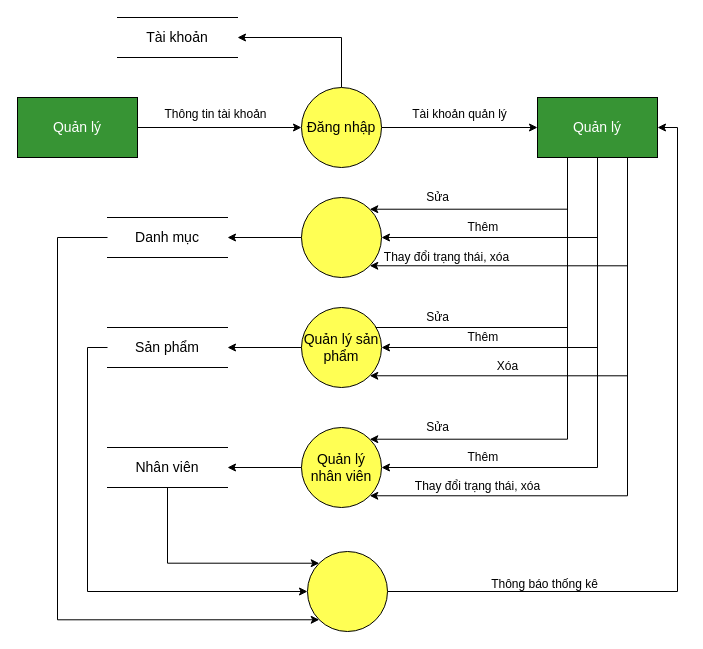
Image size: 703x649. Some labels were removed from this diagram. The shapes that lost their labels are listed below. From the top down, each one's centre as x and y in pixels, then its label:
At (341,237): "Quản lý danh mục".
At (347,591): "Báo cáo thống kê".
